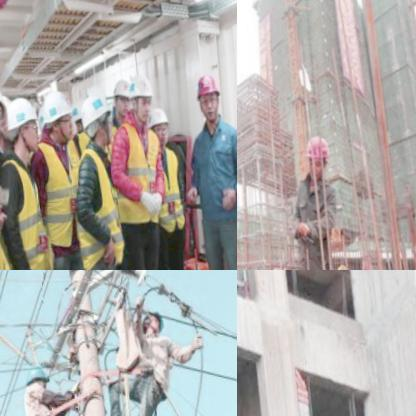helmet: (5, 95, 43, 160), (39, 90, 77, 151), (82, 87, 114, 153), (193, 66, 224, 126), (304, 133, 332, 185), (23, 365, 54, 410), (128, 74, 154, 122), (146, 104, 172, 147), (141, 306, 168, 341), (112, 80, 134, 120), (0, 79, 10, 136)
